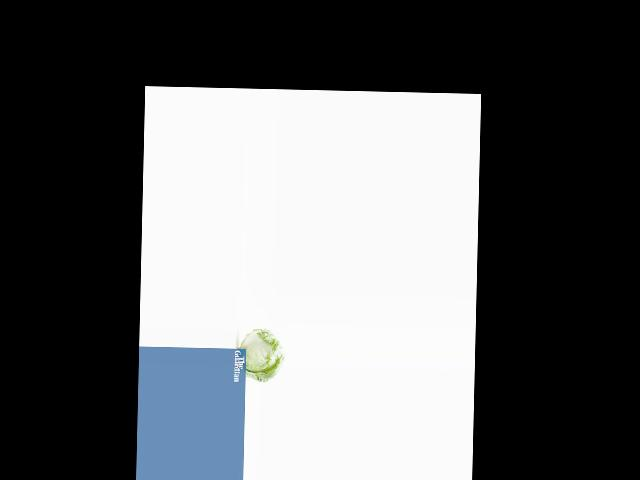lettuce: (239, 329, 287, 381)
